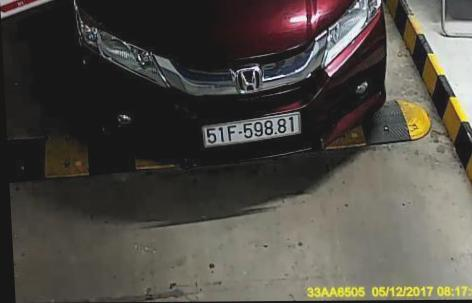License_Plate: (199, 114, 303, 148)
